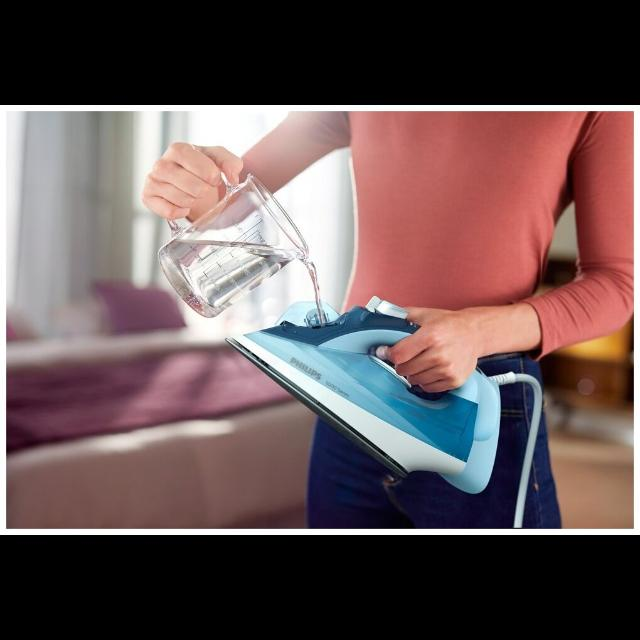Clothes-Iron: (222, 297, 524, 499)
